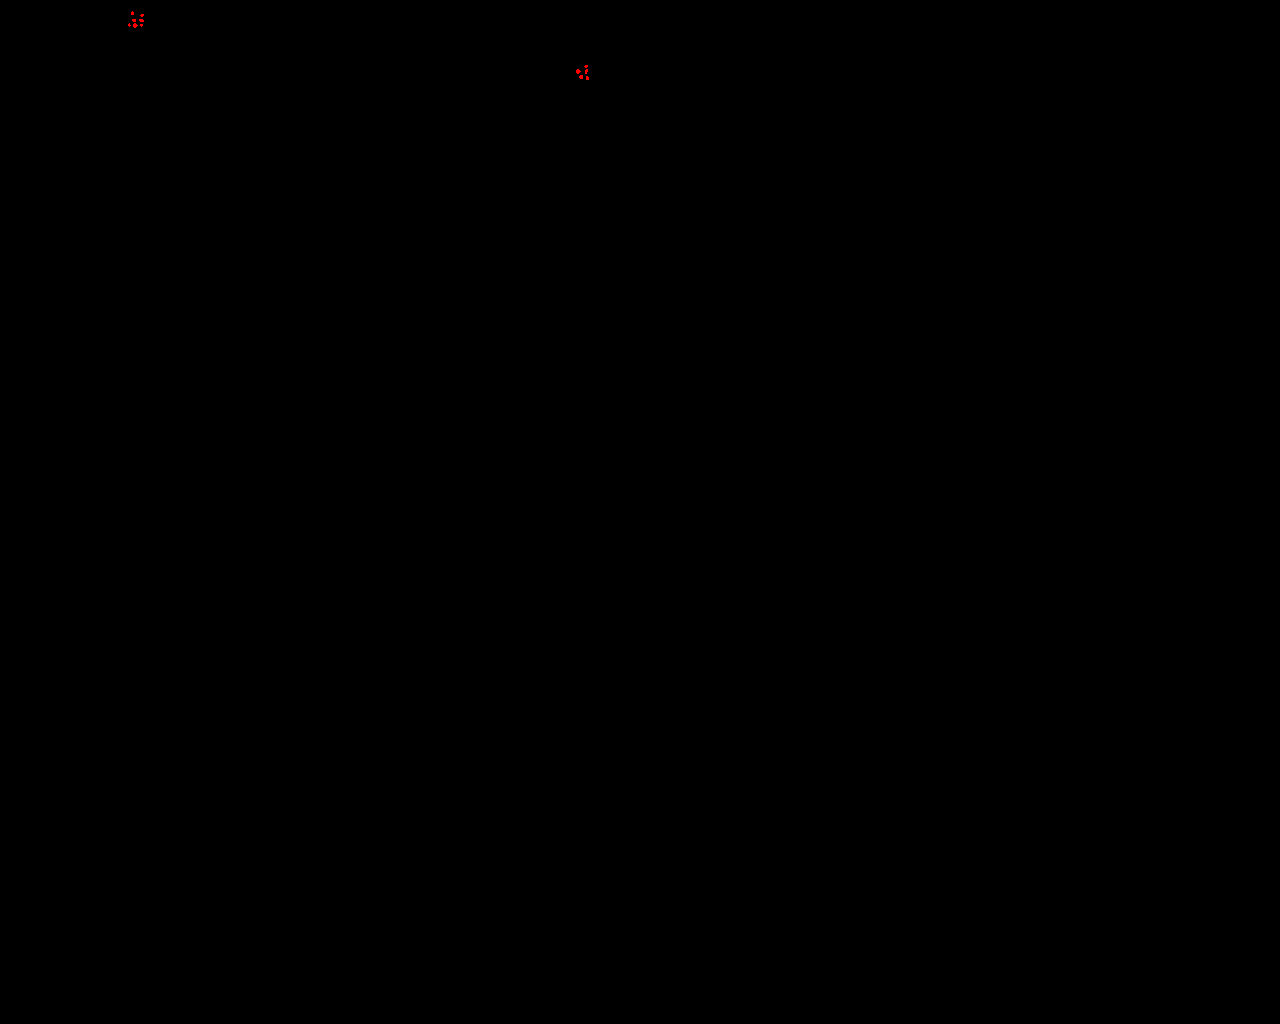Target: (133, 23, 138, 28), (576, 69, 581, 74), (579, 75, 583, 79), (139, 19, 144, 22), (585, 69, 588, 74), (140, 14, 144, 17), (132, 19, 136, 22), (127, 23, 131, 27), (584, 65, 588, 68), (586, 76, 589, 80), (131, 11, 134, 15), (140, 24, 143, 27)
